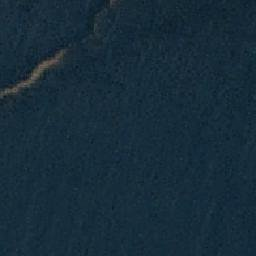debris: (1, 82, 27, 93), (45, 50, 61, 67), (30, 63, 44, 81)
